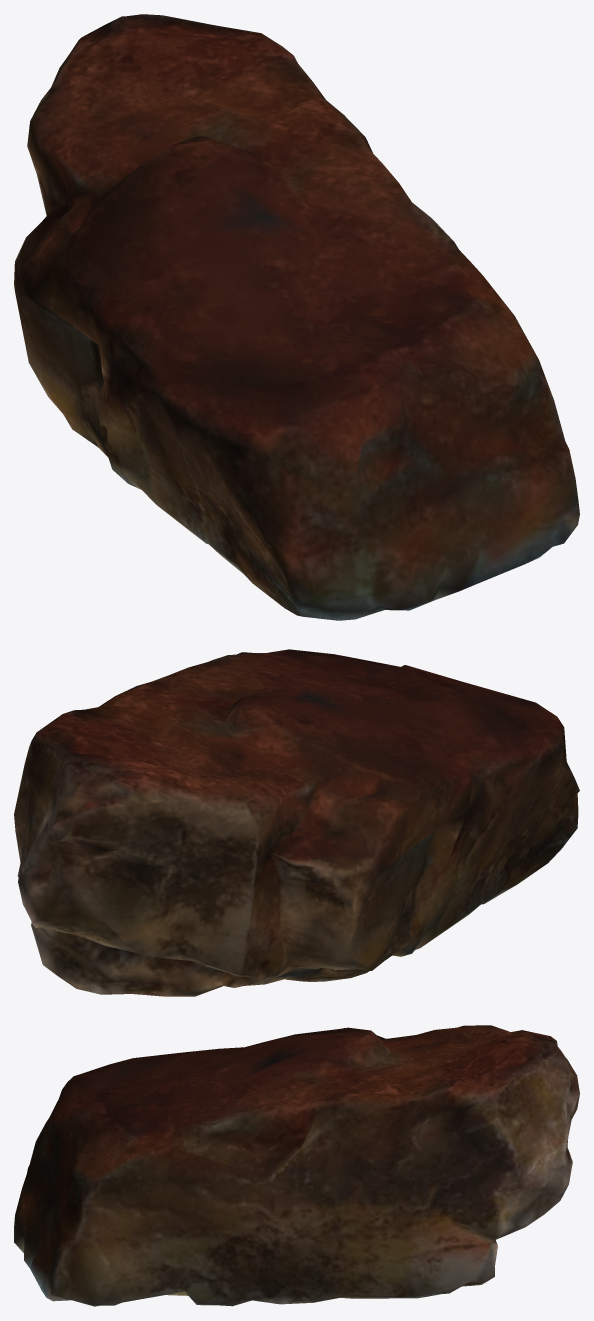
The model's file is rock_07.glb.
3 views of the same model, one above another, from view 1: azimuth 30°, elevation 25°; view 2: azimuth 150°, elevation 25°; view 3: azimuth 270°, elevation 25° (orthographic). The views are drawn at different scales.
Parts seen in each view (by area): view 1: rock_07; view 2: rock_07; view 3: rock_07.
Boxes of the visible parts, x1,y1,x2,y2 form: rock_07: [14, 14, 579, 620]; rock_07: [14, 649, 579, 996]; rock_07: [14, 1025, 579, 1306].
Size of the model in its own units: 0.1679 by 0.1434 by 0.3198.
1 material, 1 textured.
